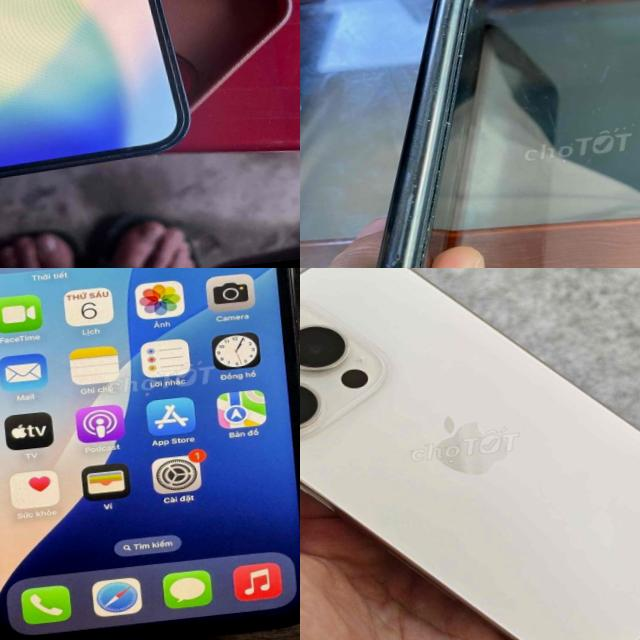gen_11: (0, 268, 300, 640), (314, 0, 544, 268)
gen_12_13: (0, 0, 202, 190)
gen_15: (300, 268, 640, 640)
scratch: (365, 175, 435, 268), (424, 95, 452, 128), (439, 31, 465, 62), (447, 0, 482, 13)
